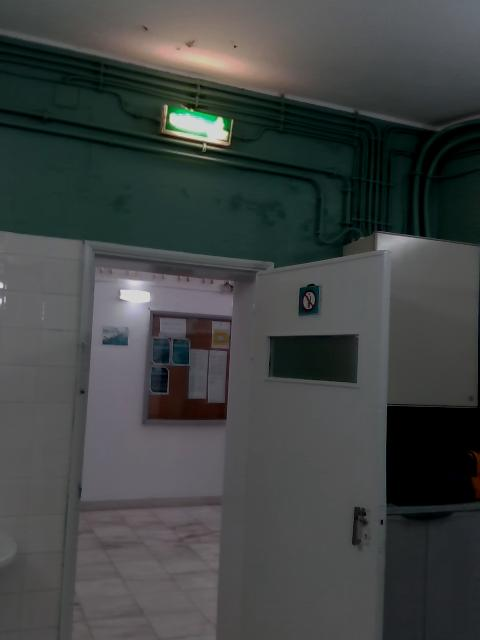open_door: (57, 238, 274, 638)
